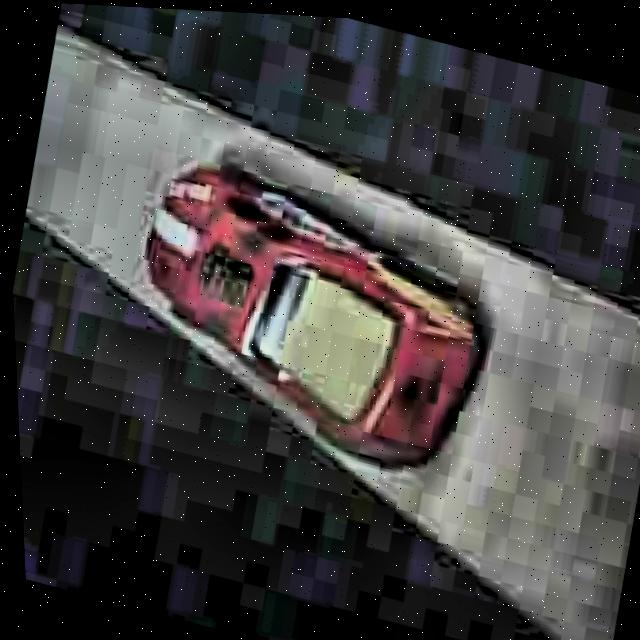car: (105, 142, 521, 493)
